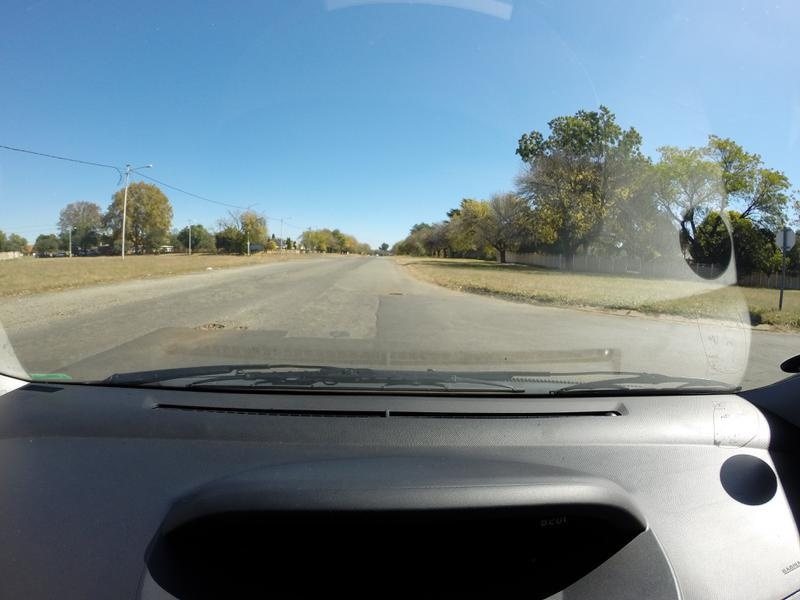pothole: (192, 317, 220, 334), (226, 322, 253, 338)
